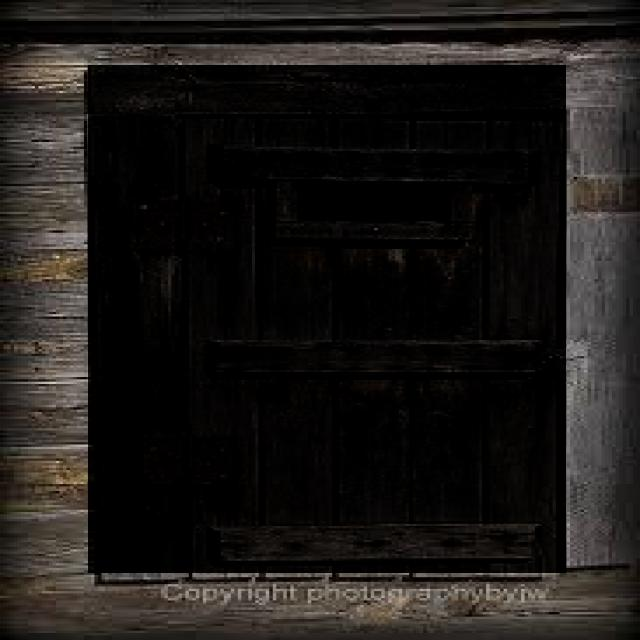doorhandle: (88, 65, 566, 573)
